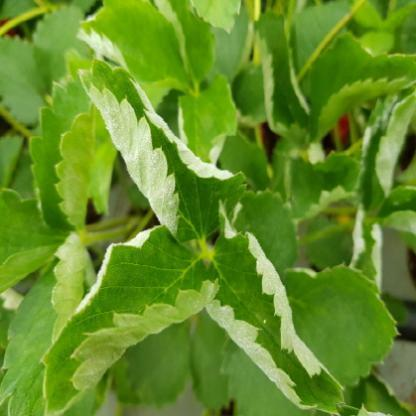Strawberry_Powdery_Mildew_Leaf: (38, 223, 220, 415), (78, 55, 249, 242), (204, 204, 346, 415), (75, 0, 194, 109), (252, 10, 314, 147), (357, 91, 415, 216), (178, 72, 238, 162), (346, 202, 384, 298)
